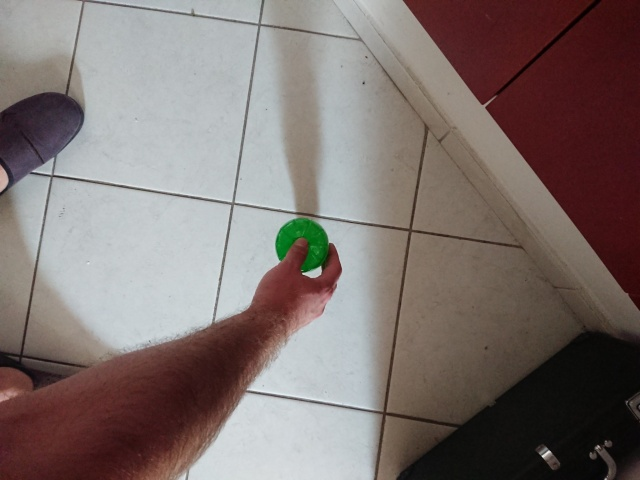Vindi Iso Sport Lemon-Grapefruit 500mL: (272, 215, 332, 275)
